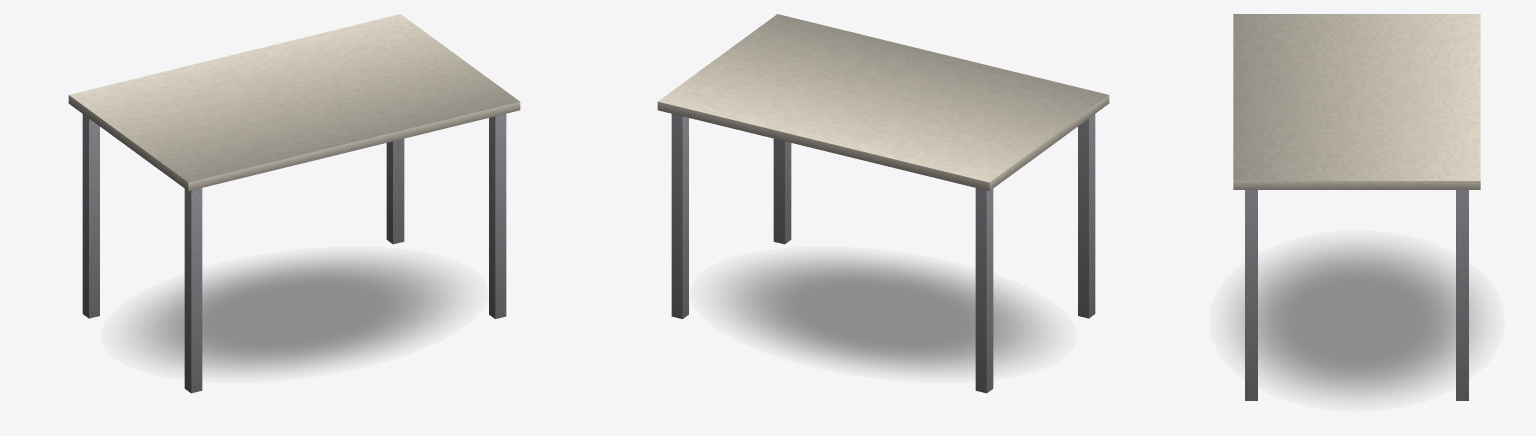
The model's file is table.glb.
3 renders of one model, left to right at view 1: azimuth 30°, elevation 25°; view 2: azimuth 150°, elevation 25°; view 3: azimuth 270°, elevation 25°, orthographic. The views are drawn at different scales.
Parts seen in each view (by area): view 1: top, shadow, legs; view 2: top, shadow, legs; view 3: top, shadow, legs.
Part boxes in pixels (x1=…): top: x1=68, y1=14, x2=520, y2=190; shadow: x1=133, y1=258, x2=455, y2=371; legs: x1=82, y1=114, x2=506, y2=393; top: x1=657, y1=14, x2=1109, y2=190; shadow: x1=722, y1=258, x2=1044, y2=371; legs: x1=671, y1=114, x2=1095, y2=393; top: x1=1233, y1=14, x2=1480, y2=189; shadow: x1=1234, y1=245, x2=1479, y2=396; legs: x1=1245, y1=190, x2=1468, y2=400.
Bounding box in the file's own units: 1.45 × 0.75 × 1.
3 materials, 3 textured.
